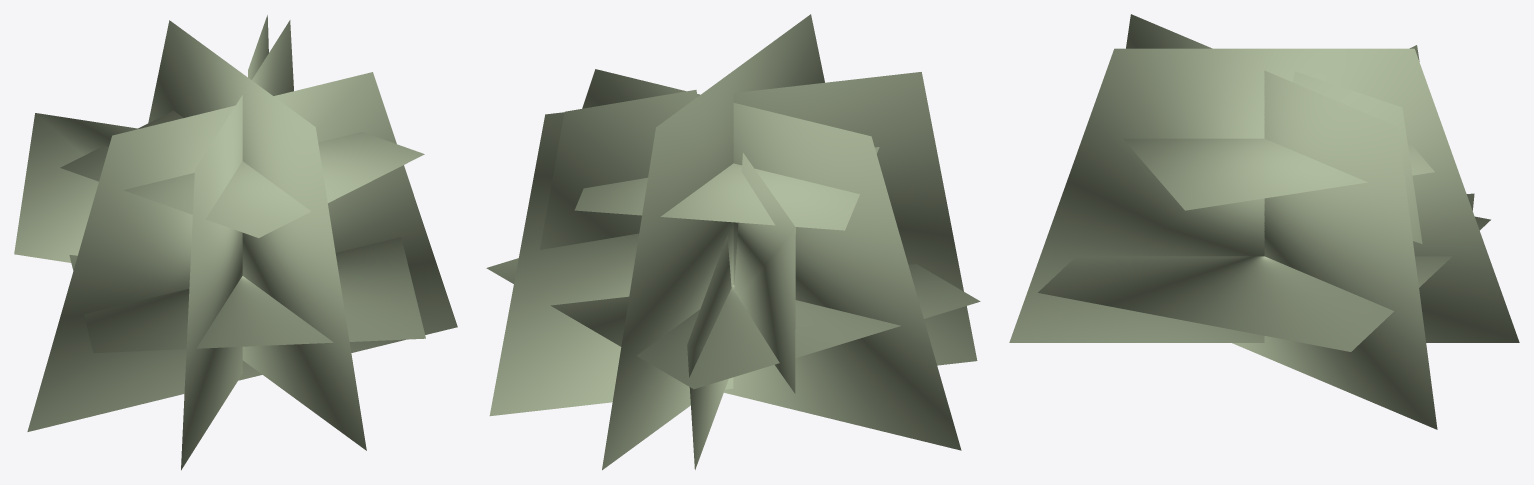
File: park-canopy-zero-unit.glb
3 renders of one model, left to right at view 1: azimuth 30°, elevation 25°; view 2: azimuth 150°, elevation 25°; view 3: azimuth 270°, elevation 25°, orthographic. The views are drawn at different scales.
Parts seen in each view (by area): view 1: Park-canopy-zero-unitBody; view 2: Park-canopy-zero-unitBody; view 3: Park-canopy-zero-unitBody.
Boxes of the visible parts, x1,y1,x2,y2 form: Park-canopy-zero-unitBody: (14, 15, 457, 470); Park-canopy-zero-unitBody: (486, 14, 980, 470); Park-canopy-zero-unitBody: (1009, 14, 1519, 429).
Size of the model in its own units: 5.83 by 3.96 by 5.83.
